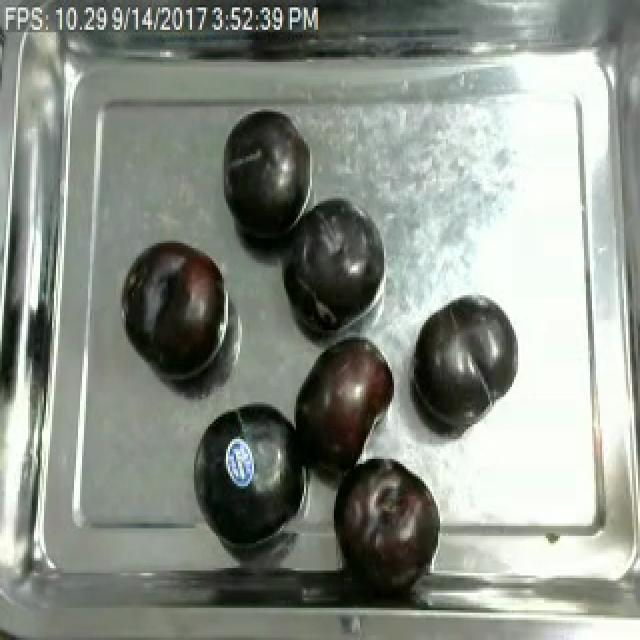Fruit: (186, 389, 308, 546), (404, 288, 522, 442), (284, 328, 404, 477), (334, 446, 446, 590), (124, 236, 232, 384), (282, 194, 384, 328), (218, 104, 312, 248)
